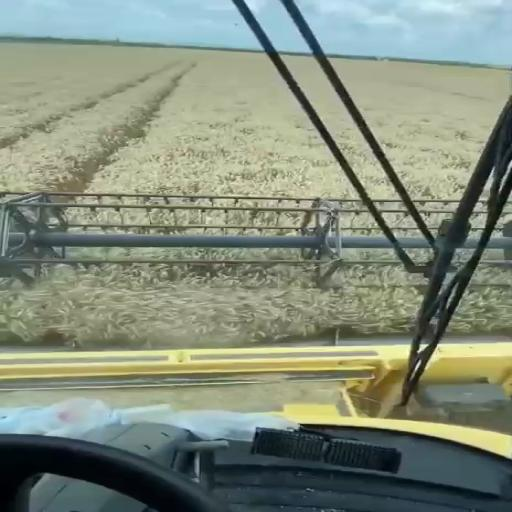bugday: (0, 43, 324, 191), (333, 60, 508, 159), (286, 57, 352, 137)
